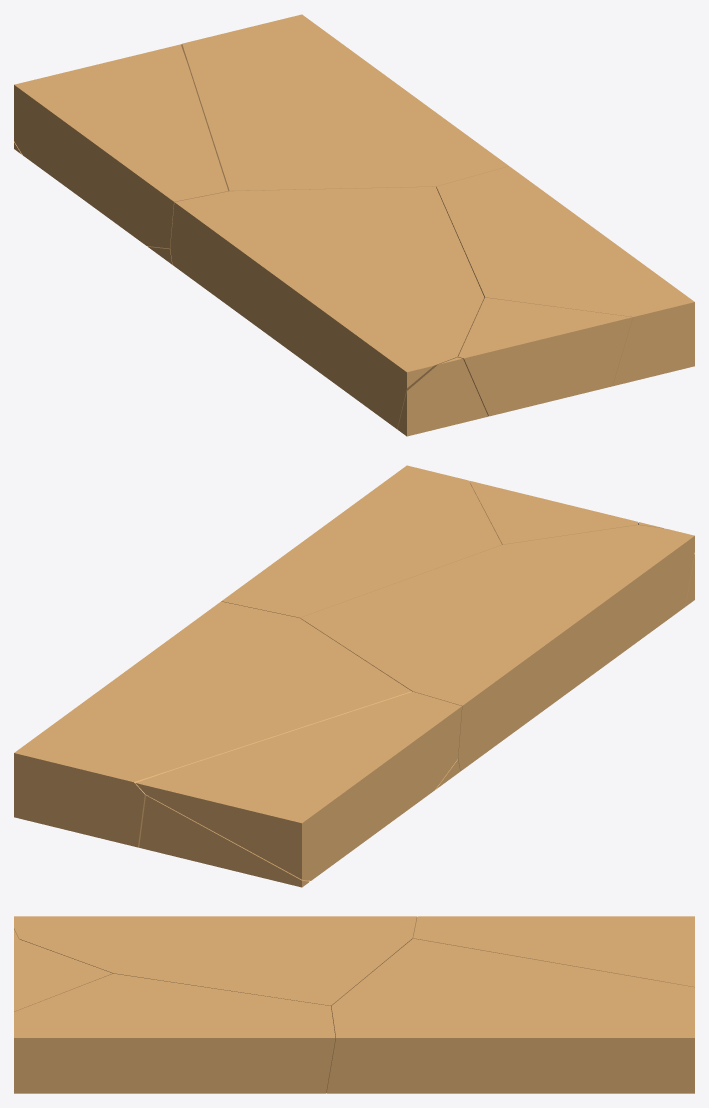
File: Shelf.fbx
The picture shows the model from 3 angles, top to bottom: view 1: azimuth 30°, elevation 25°; view 2: azimuth 150°, elevation 25°; view 3: azimuth 270°, elevation 25°; orthographic projection. The views are drawn at different scales.
Parts seen in each view (by area): view 1: Shelf.001_cell.001, Shelf.001_cell.006, Shelf.001_cell.003, Shelf.001_cell.004, Shelf.001_cell.005, Shelf.001_cell; view 2: Shelf.001_cell.001, Shelf.001_cell.006, Shelf.001_cell.003, Shelf.001_cell.004, Shelf.001_cell.002, Shelf.001_cell.005; view 3: Shelf.001_cell.006, Shelf.001_cell.004, Shelf.001_cell.001, Shelf.001_cell.003, Shelf.001_cell.005.
Boxes of the visible parts, x1,y1,x2,y2 form: Shelf.001_cell.001: [170, 186, 484, 429]; Shelf.001_cell.006: [147, 14, 508, 264]; Shelf.001_cell.003: [14, 44, 228, 248]; Shelf.001_cell.004: [436, 166, 694, 386]; Shelf.001_cell.005: [458, 297, 632, 416]; Shelf.001_cell: [397, 357, 487, 436]; Shelf.001_cell.001: [300, 525, 694, 771]; Shelf.001_cell.006: [14, 601, 460, 847]; Shelf.001_cell.003: [135, 691, 461, 880]; Shelf.001_cell.004: [221, 465, 501, 618]; Shelf.001_cell.002: [139, 795, 309, 887]; Shelf.001_cell.005: [469, 480, 637, 544]; Shelf.001_cell.006: [326, 938, 694, 1093]; Shelf.001_cell.004: [14, 973, 335, 1093]; Shelf.001_cell.001: [14, 916, 417, 1007]; Shelf.001_cell.003: [413, 916, 694, 987]; Shelf.001_cell.005: [14, 939, 112, 1011].
Size of the model in its own units: 84.66 by 18.05 by 200.
